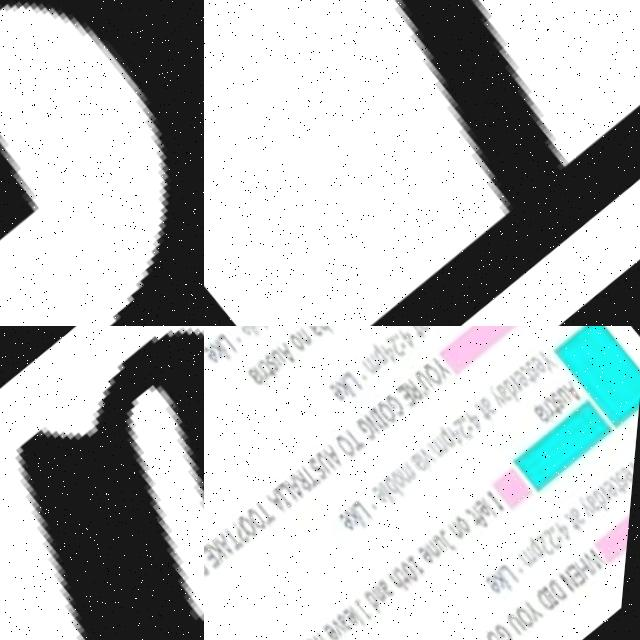0: (403, 554, 429, 579)
1: (412, 549, 436, 573)
2: (548, 522, 572, 547), (456, 414, 480, 438), (387, 332, 411, 355), (540, 529, 562, 551)
4: (449, 418, 475, 443), (557, 512, 581, 537), (467, 404, 491, 428), (381, 337, 404, 360), (397, 326, 422, 345)
A: (562, 371, 590, 399), (219, 529, 246, 556), (290, 473, 316, 498), (278, 338, 303, 363), (326, 440, 351, 465), (271, 488, 295, 511), (496, 376, 519, 399), (342, 607, 364, 629), (534, 398, 556, 420), (247, 363, 269, 385), (383, 573, 404, 595), (573, 500, 594, 521), (482, 391, 503, 412), (589, 487, 609, 508), (415, 449, 434, 469), (303, 326, 329, 337), (310, 632, 333, 640)
B: (386, 471, 412, 496)
C: (204, 561, 210, 588)
D: (551, 572, 578, 598), (540, 583, 566, 608), (504, 372, 529, 398), (369, 585, 394, 610), (596, 483, 620, 507)
E: (397, 378, 424, 406), (204, 541, 230, 568), (572, 557, 596, 581), (490, 568, 513, 592), (422, 539, 444, 561), (375, 480, 397, 502), (605, 472, 628, 493), (479, 492, 500, 514), (348, 602, 369, 624), (330, 617, 351, 639), (532, 349, 553, 371), (515, 363, 536, 385), (330, 377, 351, 399), (343, 507, 363, 528), (204, 342, 224, 363), (623, 457, 640, 477), (235, 326, 257, 334)
F: (474, 499, 499, 525), (321, 627, 346, 640)
G: (0, 0, 204, 326), (0, 326, 204, 640), (387, 388, 415, 416), (497, 614, 525, 640), (359, 414, 386, 440)
H: (579, 550, 604, 575), (394, 567, 420, 591), (313, 326, 340, 336)
I: (490, 484, 514, 508), (360, 595, 383, 618), (279, 485, 301, 508), (342, 372, 364, 394), (541, 399, 562, 421), (549, 579, 570, 600), (503, 564, 523, 585), (385, 478, 405, 499), (356, 501, 376, 522), (254, 363, 275, 383), (217, 335, 237, 356), (375, 403, 395, 424), (420, 448, 440, 468), (204, 559, 212, 581), (246, 326, 265, 330)
J: (443, 524, 466, 547)
K: (497, 565, 523, 591), (336, 373, 362, 398), (211, 338, 237, 363), (213, 538, 238, 563), (350, 503, 374, 527)
L: (504, 557, 529, 582), (345, 366, 369, 390), (283, 480, 307, 504), (357, 497, 381, 520), (355, 602, 378, 625), (381, 479, 403, 501), (220, 331, 242, 353), (486, 493, 507, 514), (242, 326, 264, 335)
M: (363, 349, 389, 375), (521, 540, 547, 565), (400, 456, 425, 481), (431, 431, 456, 455)
N: (366, 406, 391, 431), (564, 563, 589, 587), (429, 534, 451, 555), (452, 515, 472, 536), (377, 580, 396, 600), (298, 326, 318, 343)
O: (335, 427, 366, 458), (248, 501, 278, 531), (240, 510, 269, 538), (378, 395, 405, 422), (424, 357, 449, 382), (520, 600, 545, 624), (489, 622, 516, 640), (460, 508, 481, 530), (291, 329, 312, 351), (393, 466, 414, 486)
P: (369, 338, 395, 363), (439, 421, 463, 445), (530, 531, 553, 554), (204, 550, 219, 574)
R: (405, 373, 431, 399), (296, 466, 320, 490), (543, 393, 563, 413), (510, 367, 530, 387), (601, 478, 620, 497), (257, 360, 275, 379), (318, 631, 337, 640)
S: (309, 452, 336, 479), (617, 463, 638, 485), (266, 351, 286, 371), (551, 386, 572, 405), (526, 354, 545, 374)
T: (204, 0, 640, 326), (347, 424, 374, 450), (258, 496, 284, 523), (566, 504, 591, 529), (521, 359, 545, 383), (305, 461, 329, 485), (547, 390, 570, 414), (229, 526, 252, 550), (260, 355, 283, 378), (612, 468, 634, 491), (468, 501, 491, 523), (400, 561, 422, 584), (477, 397, 499, 420), (408, 326, 430, 336), (479, 634, 504, 640)
U: (415, 363, 441, 390), (319, 449, 345, 474), (511, 606, 536, 631), (271, 345, 293, 367), (437, 528, 457, 549), (558, 380, 578, 401)
V: (422, 442, 443, 462), (337, 613, 357, 633)
W: (585, 539, 616, 569)
Y: (538, 343, 564, 369), (528, 591, 554, 616), (578, 488, 604, 513), (432, 351, 457, 376), (488, 380, 512, 404), (629, 453, 640, 477)
